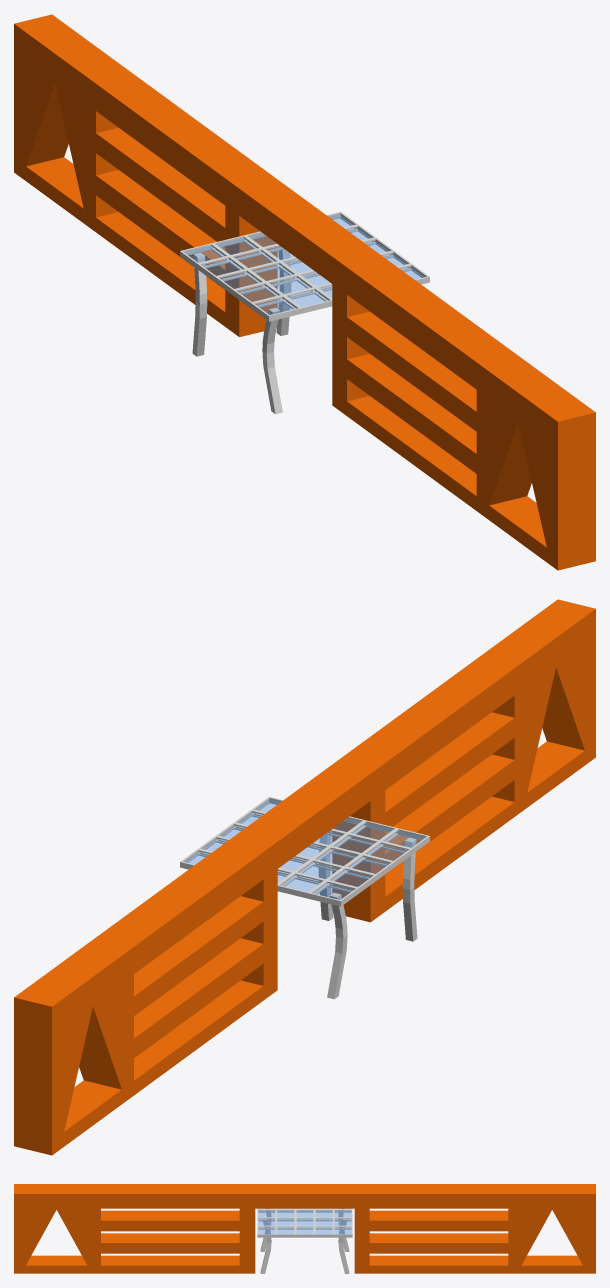
Rendered from um6p-pergola.glb.
The picture shows the model from 3 angles, top to bottom: view 1: azimuth 30°, elevation 25°; view 2: azimuth 150°, elevation 25°; view 3: azimuth 270°, elevation 25°; orthographic projection. The views are drawn at different scales.
Parts seen in each view (by area): view 1: wall, pergola, glass, legs; view 2: wall, pergola, glass, legs; view 3: wall, pergola, glass, legs.
Boxes of the visible parts, left/top/right/bottom form: wall: left=14, top=14, right=595, bottom=570; pergola: left=180, top=211, right=429, bottom=321; glass: left=185, top=214, right=424, bottom=314; legs: left=192, top=246, right=291, bottom=414; wall: left=14, top=599, right=595, bottom=1155; pergola: left=180, top=796, right=429, bottom=906; glass: left=185, top=799, right=424, bottom=899; legs: left=318, top=831, right=417, bottom=999; wall: left=14, top=1184, right=595, bottom=1273; pergola: left=257, top=1208, right=352, bottom=1237; glass: left=258, top=1211, right=351, bottom=1233; legs: left=260, top=1208, right=349, bottom=1273.
Size of the model in its own units: 2 by 1.76 by 11.69.
